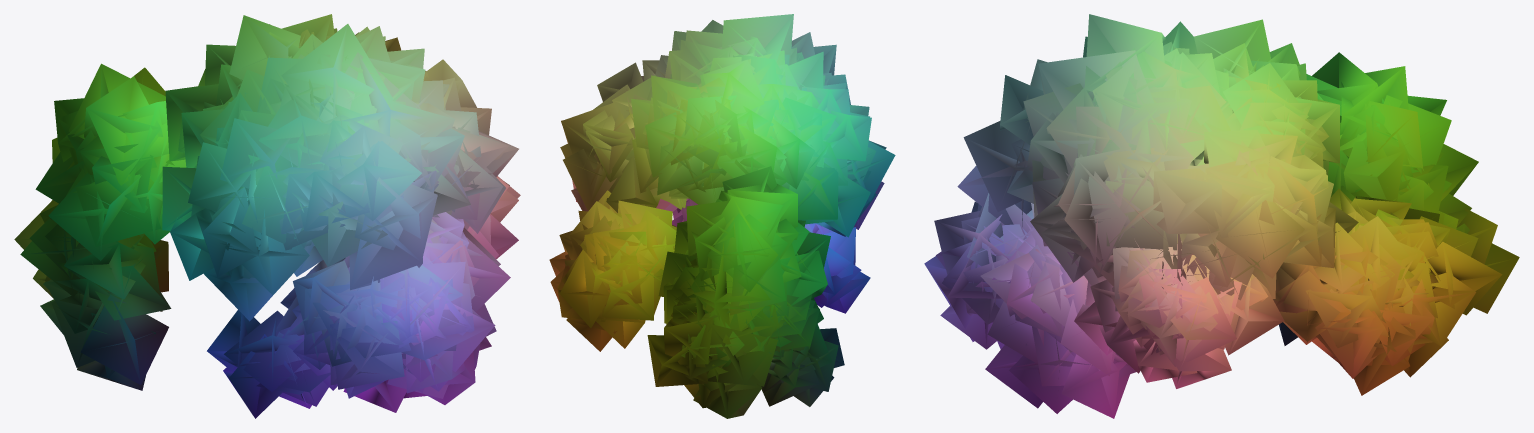
Rendered from Forest_plant_tree_083_a.fbx.
The picture shows the model from 3 angles, left to right: view 1: azimuth 30°, elevation 25°; view 2: azimuth 150°, elevation 25°; view 3: azimuth 270°, elevation 25°; orthographic projection. The views are drawn at different scales.
Visible parts, largest first — view 1: attribwrangle50; view 2: attribwrangle50; view 3: attribwrangle50.
Part boxes in pixels (box(x1,y1,x2,y2)): attribwrangle50: box(14, 14, 520, 418); attribwrangle50: box(549, 14, 895, 418); attribwrangle50: box(924, 14, 1519, 418).
Size of the model in its own units: 2337 by 2148 by 2997.
